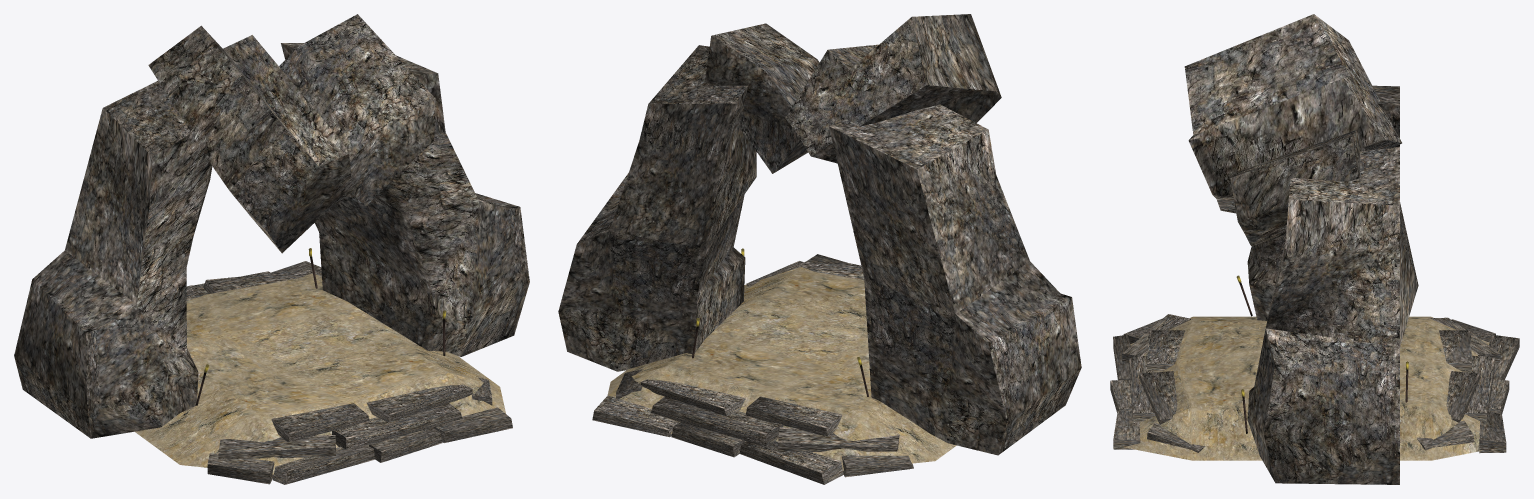
The model's file is pir_m_are_tun_caveInterior_cap.fbx.
3 views of the same model, side by side, from view 1: azimuth 30°, elevation 25°; view 2: azimuth 150°, elevation 25°; view 3: azimuth 270°, elevation 25° (orthographic). The views are drawn at different scales.
Visible parts, largest first — view 1: columnL, floor2, columnR, top_big1, topSmall, pCube4.001, pCube7.001, pCube9.001, pCube8.001, pCube3.001, pCube1.001, pCube6.001 (+2 smaller); view 2: columnL, columnR, floor2, top_big1, topSmall, pCube4, pCube3, pCube9, pCube7, pCube1, pCube8, pCube2 (+2 smaller); view 3: columnR, top_big1, floor2, topSmall, columnL, pCube8.001, pCube9.001, pCube4, pCube8, pCube4.001, pCube9, pCube1 (+9 smaller).
Boxes of the visible parts, x1,y1,x2,y2 form: columnL: (14, 81, 212, 438); floor2: (135, 273, 505, 474); columnR: (281, 43, 529, 356); top_big1: (148, 25, 352, 253); topSmall: (279, 14, 435, 205); pCube4.001: (332, 403, 462, 449); pCube7.001: (218, 435, 335, 459); pCube9.001: (271, 403, 369, 442); pCube8.001: (367, 384, 472, 422); pCube3.001: (273, 445, 375, 484); pCube1.001: (433, 407, 512, 442); pCube6.001: (207, 453, 274, 484); columnL: (829, 104, 1081, 455); columnR: (558, 45, 756, 371); floor2: (607, 267, 956, 470); top_big1: (785, 14, 1001, 163); topSmall: (705, 23, 819, 173); pCube4: (650, 396, 783, 446); pCube3: (739, 441, 843, 484); pCube9: (745, 396, 842, 436); pCube7: (778, 427, 899, 452); pCube1: (592, 395, 679, 437); pCube8: (640, 379, 745, 416); pCube2: (671, 422, 745, 457); columnR: (1247, 146, 1418, 484); top_big1: (1184, 14, 1401, 213); floor2: (1124, 316, 1489, 460); topSmall: (1230, 130, 1365, 245); columnL: (1247, 85, 1399, 320); pCube8.001: (1139, 371, 1177, 424); pCube9.001: (1147, 330, 1184, 371); pCube4: (1465, 355, 1494, 421); pCube8: (1446, 371, 1480, 422); pCube4.001: (1129, 356, 1155, 421); pCube9: (1439, 330, 1471, 371); pCube1: (1479, 411, 1506, 453).
Size of the model in its own units: 6078 by 4933 by 5279.
Materials: 3 (3 with a texture image).
